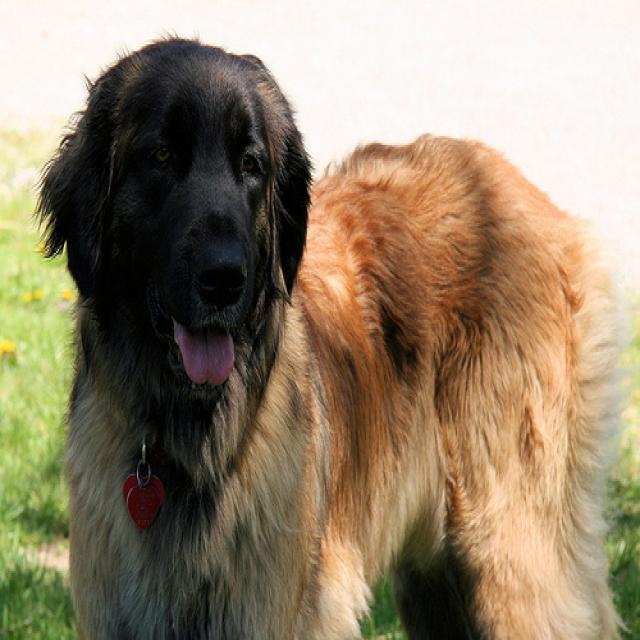dog-leonberger: (37, 19, 627, 636)
